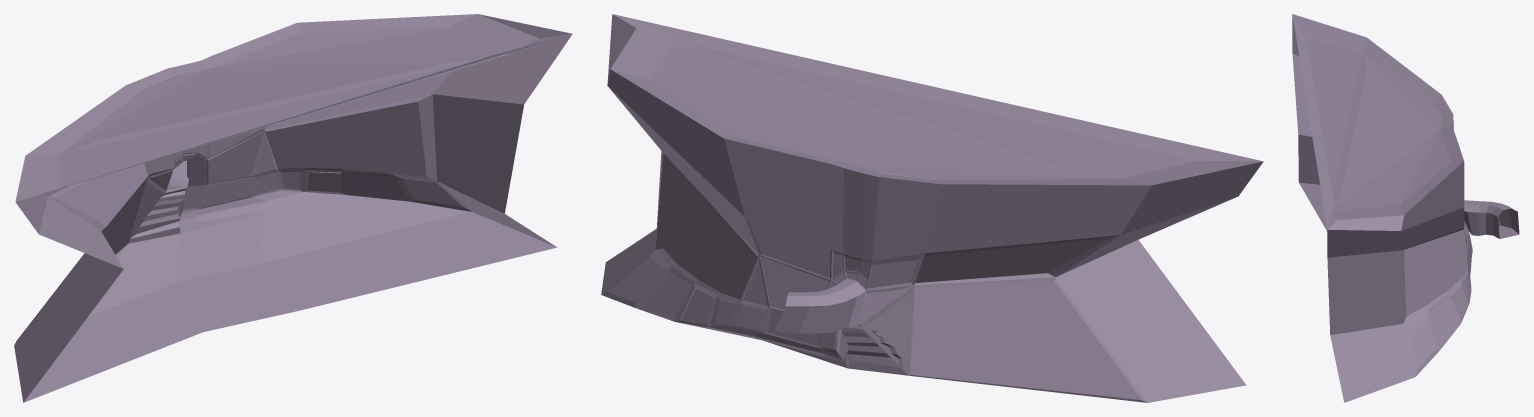
Rendered from Q3sC-background.glb.
3 renders of one model, left to right at view 1: azimuth 30°, elevation 25°; view 2: azimuth 150°, elevation 25°; view 3: azimuth 270°, elevation 25°, orthographic. The views are drawn at different scales.
Parts seen in each view (by area): view 1: Cube; view 2: Cube; view 3: Cube.
Part boxes in pixels (bbox=[...]): Cube: bbox=[14, 14, 572, 402]; Cube: bbox=[601, 14, 1263, 402]; Cube: bbox=[1292, 14, 1519, 402].
Bounding box in the file's own units: 197 × 71.55 × 84.08.
